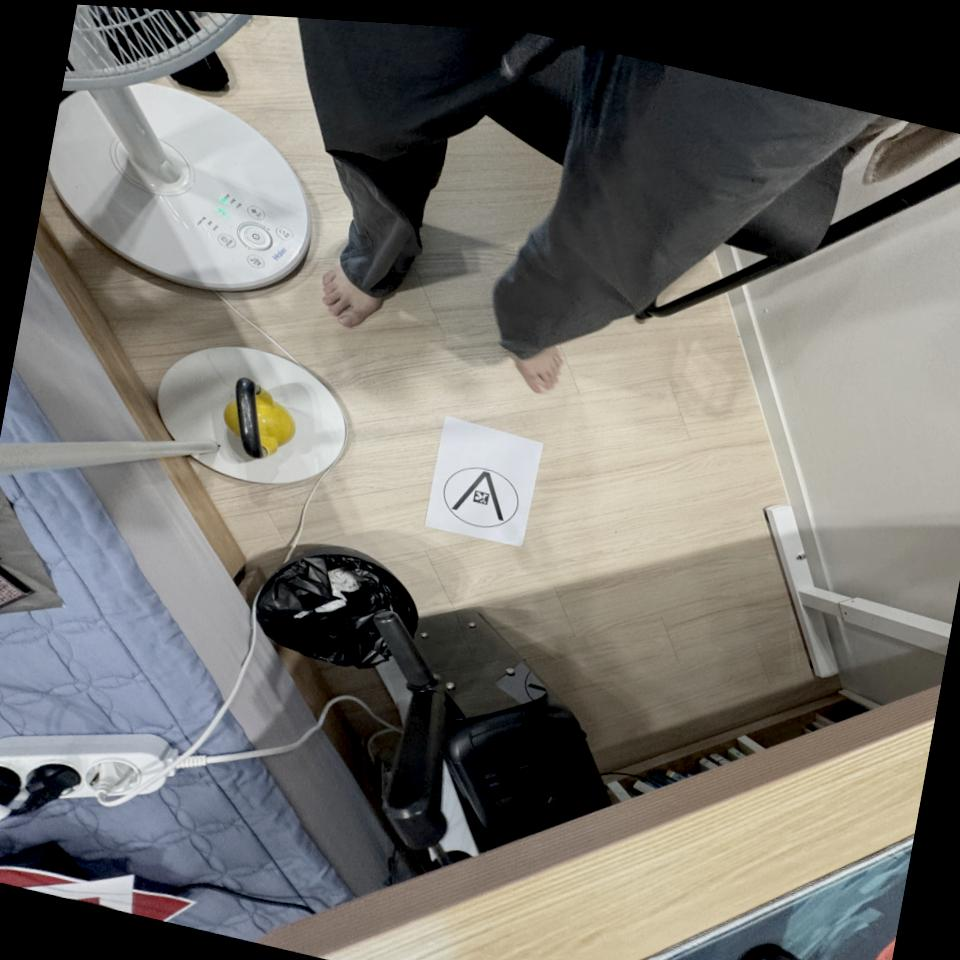vertiport: (431, 453, 529, 545)
